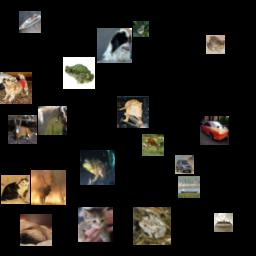automobile: (200, 116, 229, 145), (175, 155, 194, 174)
bird: (133, 21, 149, 37)
cat: (78, 207, 113, 242), (117, 96, 149, 128), (1, 175, 30, 204)
deer: (31, 170, 66, 205), (8, 115, 37, 144), (142, 134, 164, 156)
dog: (97, 28, 132, 63), (0, 72, 32, 104), (20, 214, 52, 246)
frog: (133, 207, 171, 245), (80, 150, 115, 185), (63, 57, 95, 89), (206, 35, 225, 54)
ship: (19, 11, 41, 33), (178, 176, 200, 198), (214, 213, 233, 232)
